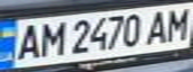0: (121, 11, 145, 47)
2: (66, 16, 93, 55)
4: (87, 14, 112, 52)
7: (106, 11, 127, 51)
A: (12, 20, 42, 61), (145, 7, 172, 45)
M: (36, 18, 66, 57), (163, 6, 190, 43)
